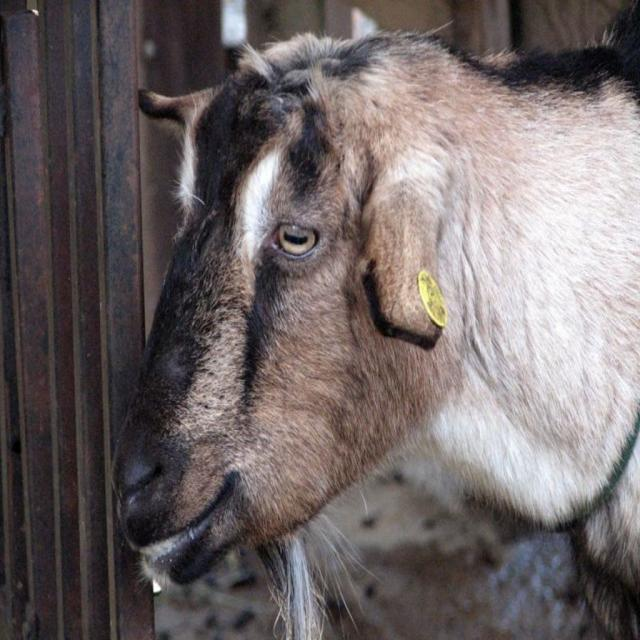Goat: (112, 32, 639, 639)
